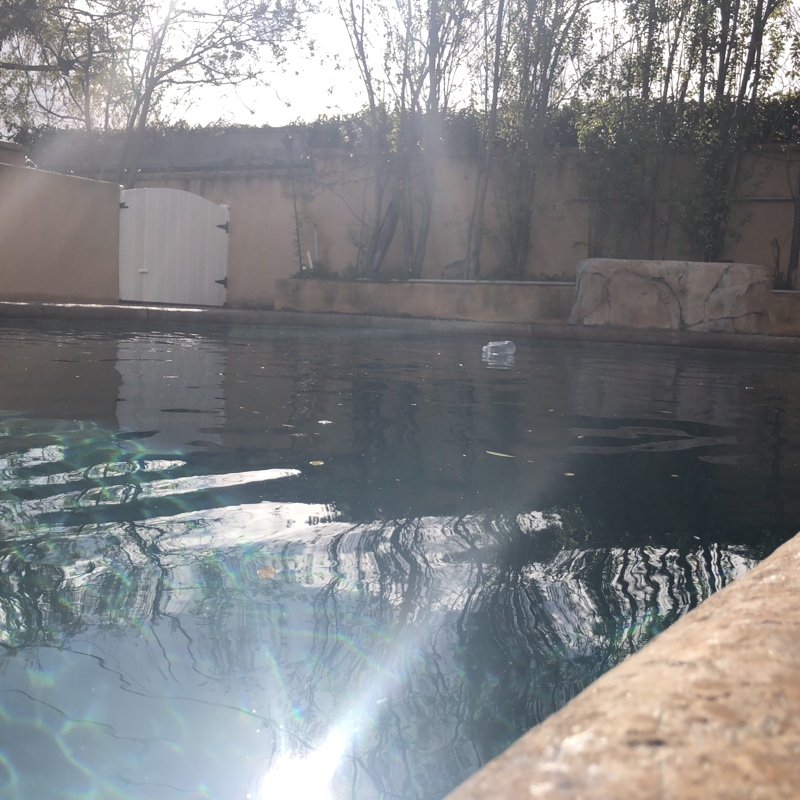Plastic Bottle: (480, 338, 521, 357)
